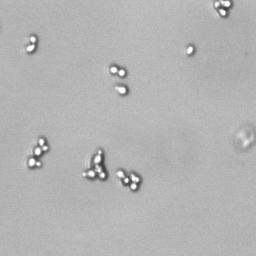budding: (24, 33, 38, 53), (109, 64, 126, 77), (114, 84, 128, 96)
cluster: (80, 148, 110, 182), (25, 135, 50, 171), (114, 167, 143, 192)
individual: (184, 44, 196, 55)
